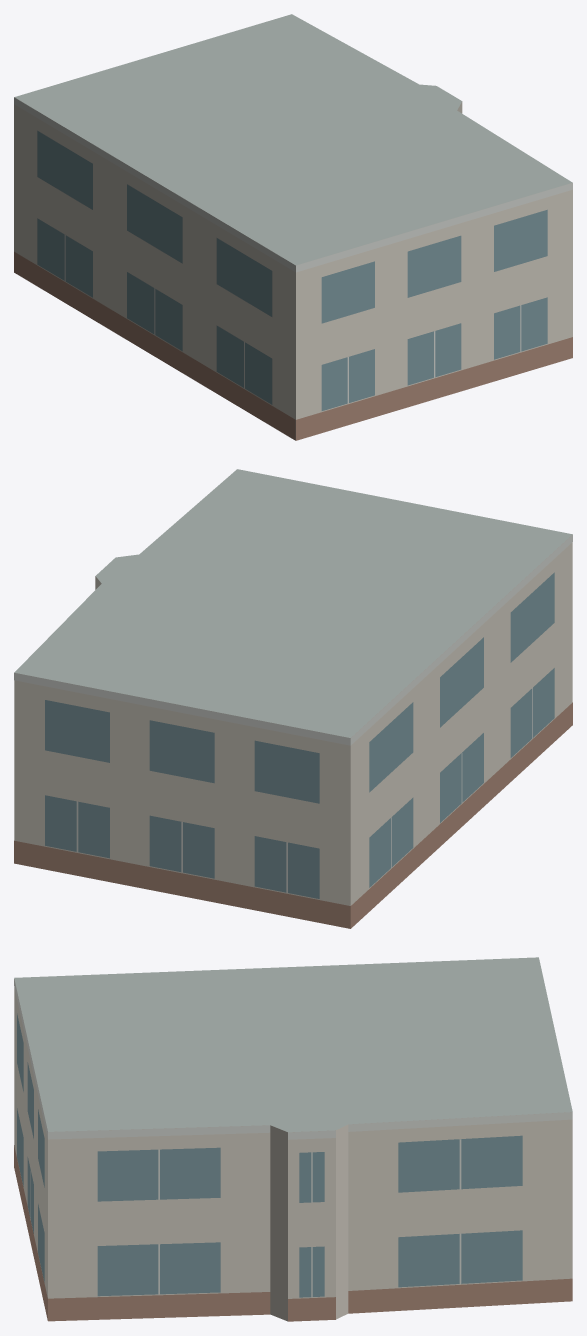
File: survey-upis-32619320.glb
3 views of the same model, one above another, from view 1: azimuth 30°, elevation 25°; view 2: azimuth 150°, elevation 25°; view 3: azimuth 270°, elevation 25° (orthographic). The views are drawn at different scales.
Parts seen in each view (by area): view 1: survey-upis-32619320.tmp; view 2: survey-upis-32619320.tmp; view 3: survey-upis-32619320.tmp.
Part boxes in pixels (<box>): survey-upis-32619320.tmp: <box>14,14,572,440</box>; survey-upis-32619320.tmp: <box>14,469,572,928</box>; survey-upis-32619320.tmp: <box>14,957,572,1321</box>.
Size of the model in its own units: 12.1 by 6.1 by 16.33.
